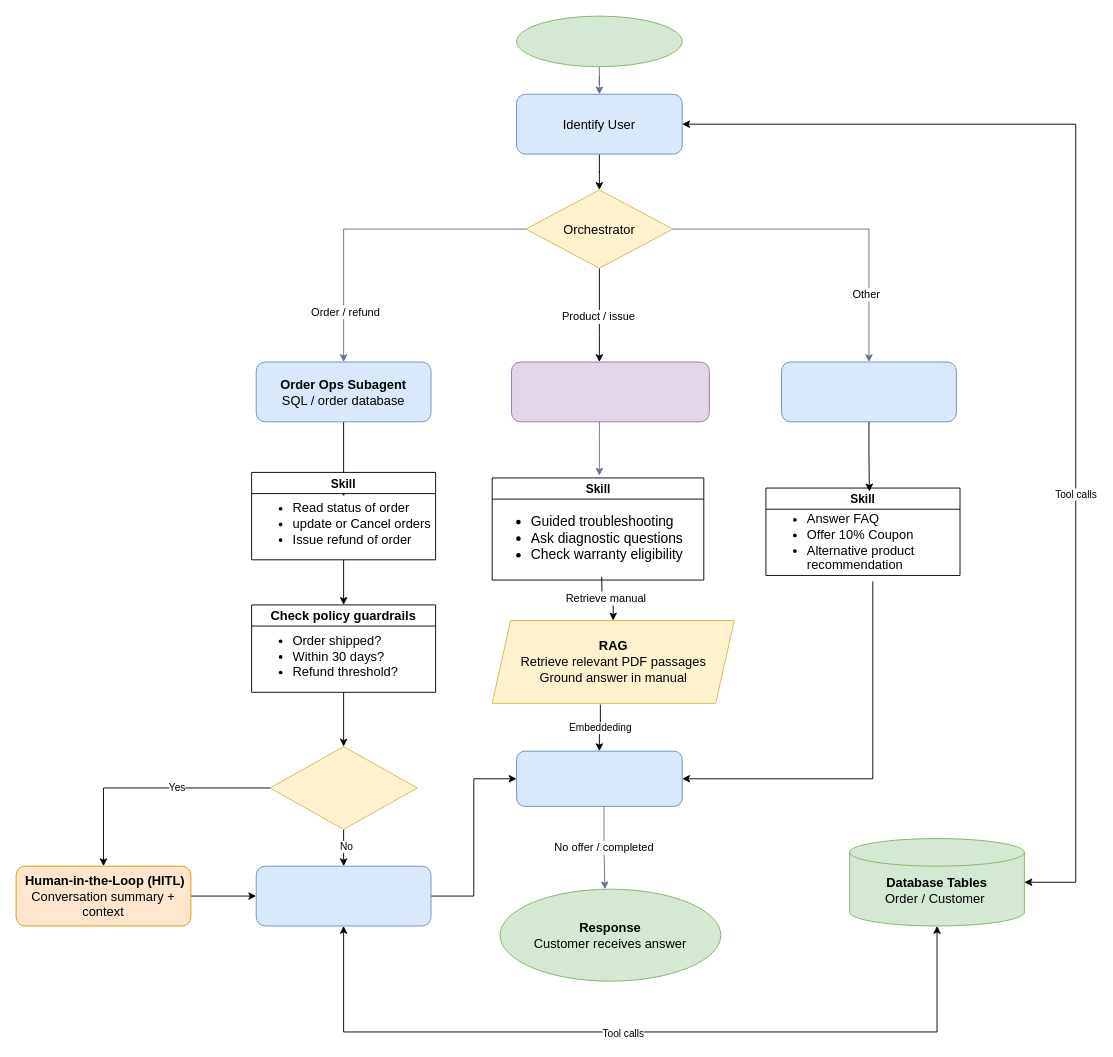
Image size: 1113x1057. Some labels were removed from this diagram. Each missing label, with the centre of its shape:
Customer asks for help: the point at 599,41
Database Operations Read / update orders Cancel · refund · status: the point at 343,895
Escalate to human?: the point at 343,787
General Support Subagent FAQ / account / other: the point at 868,391
Product Specialist Subagent RAG over manuals / PDFs: the point at 610,391
Response Synthesizer: the point at 599,778
